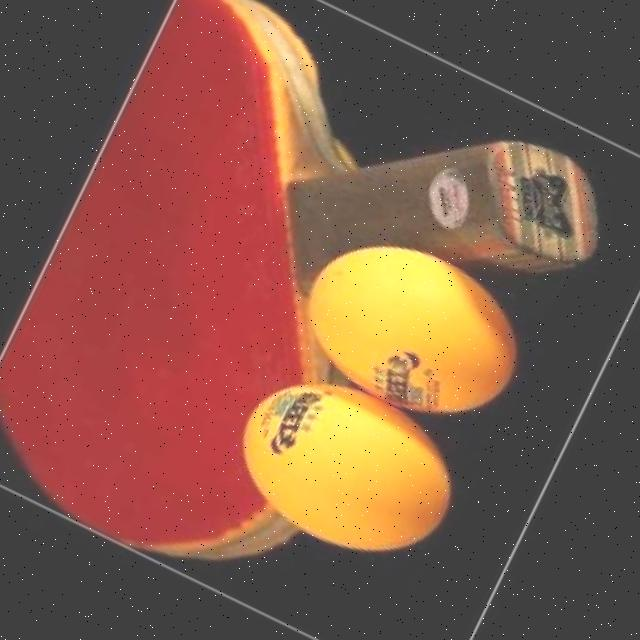ping-pong-ball: (212, 350, 478, 580), (280, 212, 542, 443)
